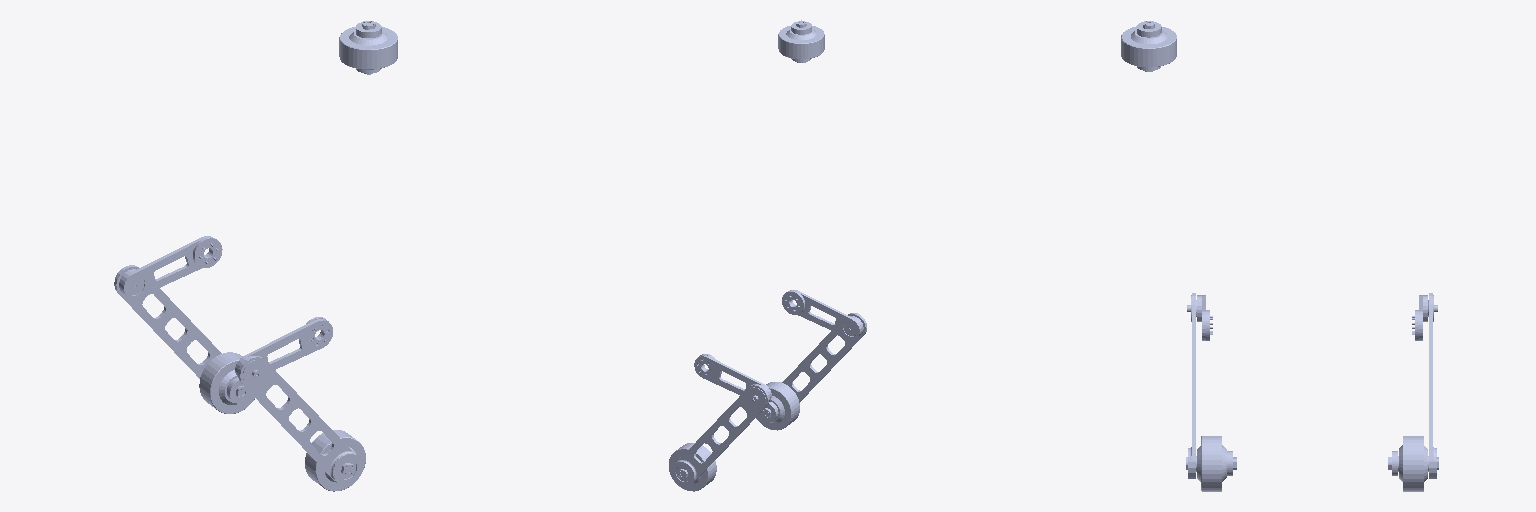
robot.urdf — main6:
<?xml version="1.0" encoding="utf-8"?>
<!-- This URDF was automatically created by SolidWorks to URDF Exporter! Originally created by [author] ([email redacted]) 
     Commit Version: 1.6.0-4-g7f85cfe  Build Version: 1.6.7995.38578
     For more information, please see http://wiki.ros.org/sw_urdf_exporter -->
<robot
  name="main6">
  <link
    name="base_link">
    <inertial>
      <origin
        xyz="0.0044986 3.256E-05 0.28819"
        rpy="0 0 0" />
      <mass
        value="9.25" />
      <inertia
        ixx="0.015059"
        ixy="4.8108E-07"
        ixz="4.8621E-06"
        iyy="0.021353"
        iyz="-6.425E-08"
        izz="0.032191" />
    </inertial>
    <visual>
      <origin
        xyz="0 0 0"
        rpy="0 0 0" />
      <geometry>
        <mesh
          filename="../meshes/base_link.STL" />
      </geometry>
      <material
        name="">
        <color
          rgba="0.79216 0.81961 0.93333 1" />
      </material>
    </visual>
    <collision>
      <origin
        xyz="0 0 0"
        rpy="0 0 0" />
      <geometry>
        <mesh
          filename="../meshes/base_link.STL" />
      </geometry>
    </collision>
  </link>
  <link
    name="lf0_Link">
    <inertial>
      <origin
        xyz="-0.063173 -0.016938 0.036295"
        rpy="0 0 0" />
      <mass
        value="0.31" />
      <inertia
        ixx="7.4747E-05"
        ixy="-4.9593E-06"
        ixz="8.6857E-05"
        iyy="0.00024801"
        iyz="2.8492E-06"
        izz="0.00017603" />
    </inertial>
    <visual>
      <origin
        xyz="0 0 0"
        rpy="0 0 0" />
      <geometry>
        <mesh
          filename="../meshes/lf0_Link.STL" />
      </geometry>
      <material
        name="">
        <color
          rgba="0.79216 0.81961 0.93333 1" />
      </material>
    </visual>
    <collision>
      <origin
        xyz="0 0 0"
        rpy="0 0 0" />
      <geometry>
        <mesh
          filename="../meshes/lf0_Link.STL" />
      </geometry>
    </collision>
  </link>
  <joint
    name="lf0_Joint"
    type="continuous">
    <origin
      xyz="-0.091 0.187 0.315"
      rpy="3.1416 0.29923 0" />
    <parent
      link="base_link" />
    <child
      link="lf0_Link" />
    <axis
      xyz="0 1 0" />
    <limit
      lower="0"
      upper="0"
      effort="0"
      velocity="0" />
  </joint>
  <link
    name="lf1_Link">
    <inertial>
      <origin
        xyz="0.101 -0.019609 0.093571"
        rpy="0 0 0" />
      <mass
        value="0.38" />
      <inertia
        ixx="0.00069059"
        ixy="9.4441E-06"
        ixz="-0.00069228"
        iyy="0.0014842"
        iyz="8.7494E-06"
        izz="0.00079648" />
    </inertial>
    <visual>
      <origin
        xyz="0 0 0"
        rpy="0 0 0" />
      <geometry>
        <mesh
          filename="../meshes/lf1_Link.STL" />
      </geometry>
      <material
        name="">
        <color
          rgba="0.79216 0.81961 0.93333 1" />
      </material>
    </visual>
    <collision>
      <origin
        xyz="0 0 0"
        rpy="0 0 0" />
      <geometry>
        <mesh
          filename="../meshes/lf1_Link.STL" />
      </geometry>
    </collision>
  </link>
  <joint
    name="lf1_Joint"
    type="continuous">
    <origin
      xyz="-0.13006 -0.016351 0.074724"
      rpy="0 0.15695 0" />
    <parent
      link="lf0_Link" />
    <child
      link="lf1_Link" />
    <axis
      xyz="0 1 0" />
    <limit
      lower="0"
      upper="0"
      effort="0"
      velocity="0" />
  </joint>
  <link
    name="l_wheel_Link">
    <inertial>
      <origin
        xyz="0 -0.01385 -6.9389E-18"
        rpy="0 0 0" />
      <mass
        value="1.71" />
      <inertia
        ixx="0.00033555"
        ixy="-3.3964E-20"
        ixz="-3.1764E-22"
        iyy="0.00051182"
        iyz="3.3976E-20"
        izz="0.00033555" />
    </inertial>
    <visual>
      <origin
        xyz="0 0 0"
        rpy="0 0 0" />
      <geometry>
        <mesh
          filename="../meshes/l_wheel_Link.STL" />
      </geometry>
      <material
        name="">
        <color
          rgba="0.79216 0.81961 0.93333 1" />
      </material>
    </visual>
    <collision>
      <origin
        xyz="0 0 0"
        rpy="0 0 0" />
      <geometry>
        <mesh
          filename="../meshes/l_wheel_Link.STL" />
      </geometry>
    </collision>
  </link>
  <joint
    name="l_wheel_Joint"
    type="continuous">
    <origin
      xyz="0.22007 0 0.20388"
      rpy="3.1416 0.14082 0" />
    <parent
      link="lf1_Link" />
    <child
      link="l_wheel_Link" />
    <axis
      xyz="0 -1 0" />
  </joint>
  <link
    name="rf0_Link">
    <inertial>
      <origin
        xyz="-0.063173 -0.016938 0.036295"
        rpy="0 0 0" />
      <mass
        value="0.31" />
      <inertia
        ixx="7.4747E-05"
        ixy="-4.9593E-06"
        ixz="8.6857E-05"
        iyy="0.00024801"
        iyz="2.8492E-06"
        izz="0.00017603" />
    </inertial>
    <visual>
      <origin
        xyz="0 0 0"
        rpy="0 0 0" />
      <geometry>
        <mesh
          filename="../meshes/rf0_Link.STL" />
      </geometry>
      <material
        name="">
        <color
          rgba="0.79216 0.81961 0.93333 1" />
      </material>
    </visual>
    <collision>
      <origin
        xyz="0 0 0"
        rpy="0 0 0" />
      <geometry>
        <mesh
          filename="../meshes/rf0_Link.STL" />
      </geometry>
    </collision>
  </link>
  <joint
    name="rf0_Joint"
    type="continuous">
    <origin
      xyz="-0.091 -0.187 0.315"
      rpy="0 -0.74372 0" />
    <parent
      link="base_link" />
    <child
      link="rf0_Link" />
    <axis
      xyz="0 1 0" />
    <limit
      lower="0"
      upper="0"
      effort="0"
      velocity="0" />
  </joint>
  <link
    name="rf1_Link">
    <inertial>
      <origin
        xyz="0.101 -0.019609 0.093571"
        rpy="0 0 0" />
      <mass
        value="0.38" />
      <inertia
        ixx="0.00069059"
        ixy="9.4441E-06"
        ixz="-0.00069228"
        iyy="0.0014842"
        iyz="8.7494E-06"
        izz="0.00079648" />
    </inertial>
    <visual>
      <origin
        xyz="0 0 0"
        rpy="0 0 0" />
      <geometry>
        <mesh
          filename="../meshes/rf1_Link.STL" />
      </geometry>
      <material
        name="">
        <color
          rgba="0.79216 0.81961 0.93333 1" />
      </material>
    </visual>
    <collision>
      <origin
        xyz="0 0 0"
        rpy="0 0 0" />
      <geometry>
        <mesh
          filename="../meshes/rf1_Link.STL" />
      </geometry>
    </collision>
  </link>
  <joint
    name="rf1_Joint"
    type="continuous">
    <origin
      xyz="-0.13006 -0.016351 0.074724"
      rpy="3.1416 0.76112 3.1416" />
    <parent
      link="rf0_Link" />
    <child
      link="rf1_Link" />
    <axis
      xyz="0 1 0" />
    <limit
      lower="0"
      upper="0"
      effort="0"
      velocity="0" />
  </joint>
  <link
    name="r_wheel_Link">
    <inertial>
      <origin
        xyz="9.7145E-16 0.01385 4.3021E-16"
        rpy="0 0 0" />
      <mass
        value="1.71" />
      <inertia
        ixx="0.00033555"
        ixy="-3.4103E-20"
        ixz="-4.2352E-22"
        iyy="0.00051182"
        iyz="3.3957E-20"
        izz="0.00033555" />
    </inertial>
    <visual>
      <origin
        xyz="0 0 0"
        rpy="0 0 0" />
      <geometry>
        <mesh
          filename="../meshes/r_wheel_Link.STL" />
      </geometry>
      <material
        name="">
        <color
          rgba="0.79216 0.81961 0.93333 1" />
      </material>
    </visual>
    <collision>
      <origin
        xyz="0 0 0"
        rpy="0 0 0" />
      <geometry>
        <mesh
          filename="../meshes/r_wheel_Link.STL" />
      </geometry>
    </collision>
  </link>
  <joint
    name="r_wheel_Joint"
    type="continuous">
    <origin
      xyz="0.22007 0 0.20388"
      rpy="3.1416 -1.5063 3.1416" />
    <parent
      link="rf1_Link" />
    <child
      link="r_wheel_Link" />
    <axis
      xyz="0 -1 0" />
  </joint>
</robot>

--- Render facts (derived) ---
Views: 3 orthographic renders of the robot side by side, from view 1: azimuth 30°, elevation 25°; view 2: azimuth 150°, elevation 25°; view 3: azimuth 270°, elevation 25°.
Robot: main6 — 7 links, 6 joints (6 continuous); root link base_link; default pose: every joint at zero.
Links seen in each view (by area): view 1: rf1_Link, lf0_Link, lf1_Link, base_link, l_wheel_Link, rf0_Link, r_wheel_Link; view 2: lf1_Link, rf0_Link, rf1_Link, base_link, r_wheel_Link, lf0_Link, l_wheel_Link; view 3: base_link, r_wheel_Link, l_wheel_Link, lf1_Link, rf1_Link.
Link boxes in pixels (x1,y1,x2,y2): rf1_Link: [238, 356, 361, 484]; lf0_Link: [119, 236, 222, 298]; lf1_Link: [114, 265, 221, 378]; base_link: [339, 21, 397, 74]; l_wheel_Link: [199, 352, 254, 413]; rf0_Link: [235, 317, 332, 376]; r_wheel_Link: [305, 430, 365, 491]; lf1_Link: [672, 384, 769, 485]; rf0_Link: [782, 290, 863, 338]; rf1_Link: [782, 313, 866, 402]; base_link: [778, 20, 824, 62]; r_wheel_Link: [756, 382, 799, 430]; lf0_Link: [694, 354, 771, 401]; l_wheel_Link: [669, 443, 716, 491]; base_link: [1121, 21, 1176, 71]; r_wheel_Link: [1186, 436, 1236, 491]; l_wheel_Link: [1388, 436, 1438, 491]; lf1_Link: [1428, 293, 1437, 478]; rf1_Link: [1187, 293, 1196, 478].
Size in the robot's own frame: 0.2723 by 0.597 by 0.966 metres.
7 mesh visuals loaded from 7 distinct referenced files (7 binary STL).